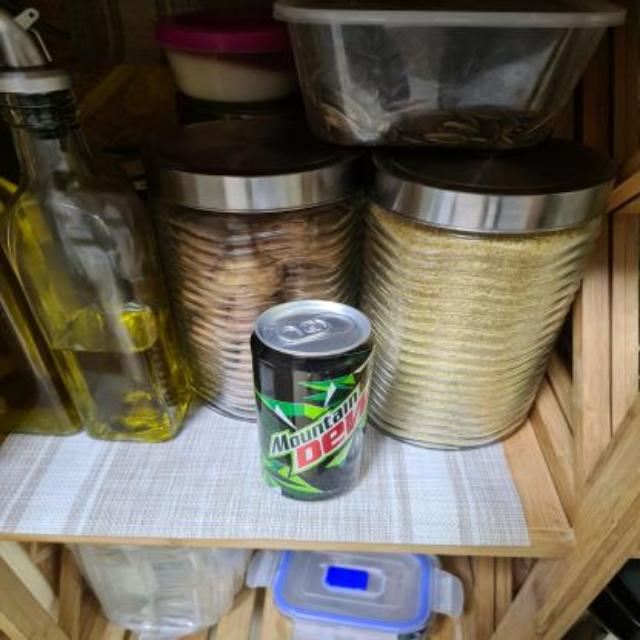metal: (251, 300, 372, 500)
